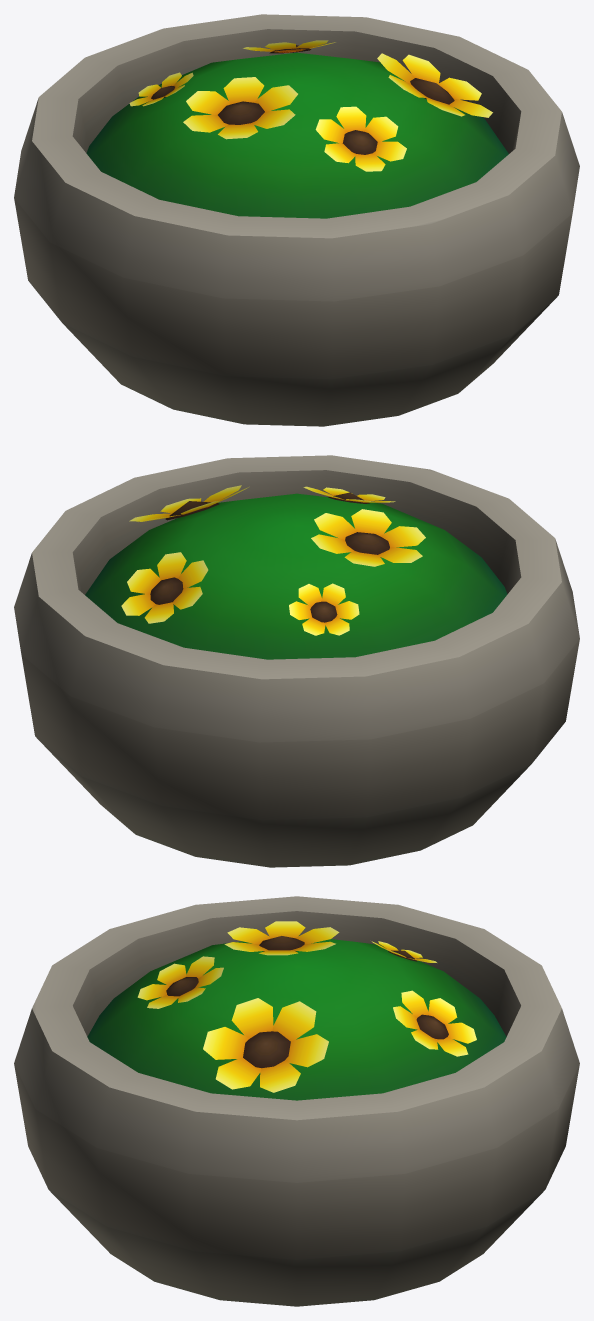
File: Plant_Pot_2C.fbx
3 renders of one model, top to bottom at view 1: azimuth 30°, elevation 25°; view 2: azimuth 150°, elevation 25°; view 3: azimuth 270°, elevation 25°, orthographic.
Parts seen in each view (by area): view 1: Plant_Pot_2C; view 2: Plant_Pot_2C; view 3: Plant_Pot_2C.
Part boxes in pixels (x1,y1,x2,y2): Plant_Pot_2C: (14,14,579,426); Plant_Pot_2C: (14,455,579,867); Plant_Pot_2C: (14,896,579,1306).
Bounding box in the file's own units: 201 × 102 × 201.
